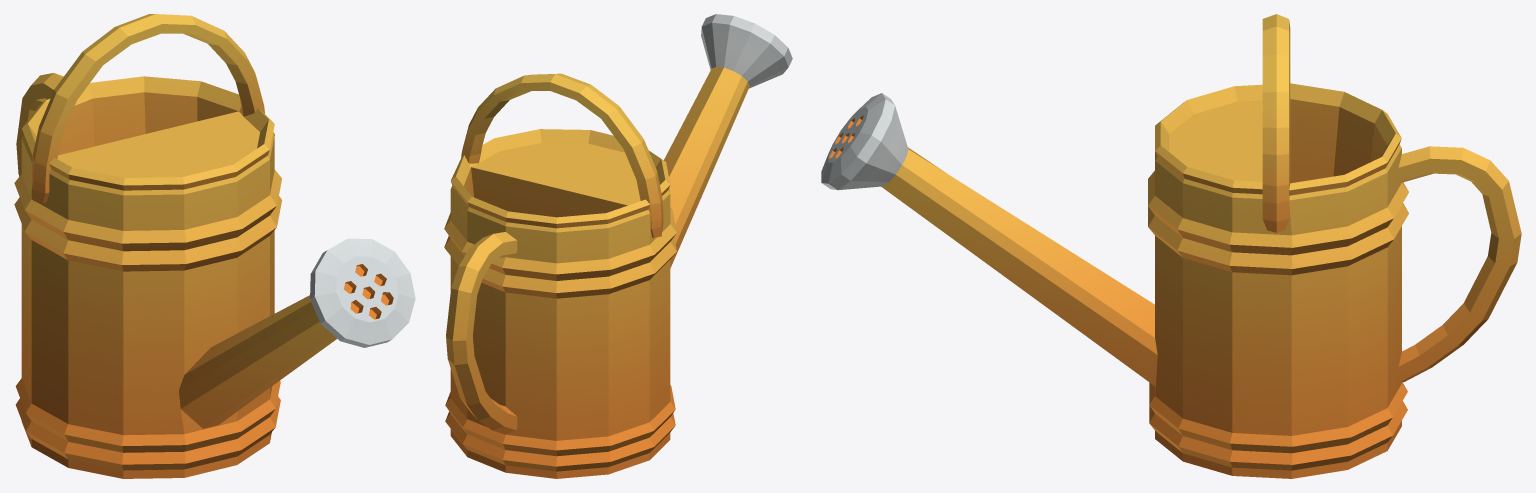
The model's file is watering_can_2.fbx.
3 renders of one model, left to right at view 1: azimuth 30°, elevation 25°; view 2: azimuth 150°, elevation 25°; view 3: azimuth 270°, elevation 25°, orthographic. The views are drawn at different scales.
Parts seen in each view (by area): view 1: watering_can_2; view 2: watering_can_2; view 3: watering_can_2.
Boxes of the visible parts, x1=… form: watering_can_2: x1=14, y1=14, x2=415, y2=478; watering_can_2: x1=444, y1=14, x2=792, y2=478; watering_can_2: x1=821, y1=14, x2=1521, y2=478.
Bounding box in the file's own units: 41.76 × 70.59 × 111.
